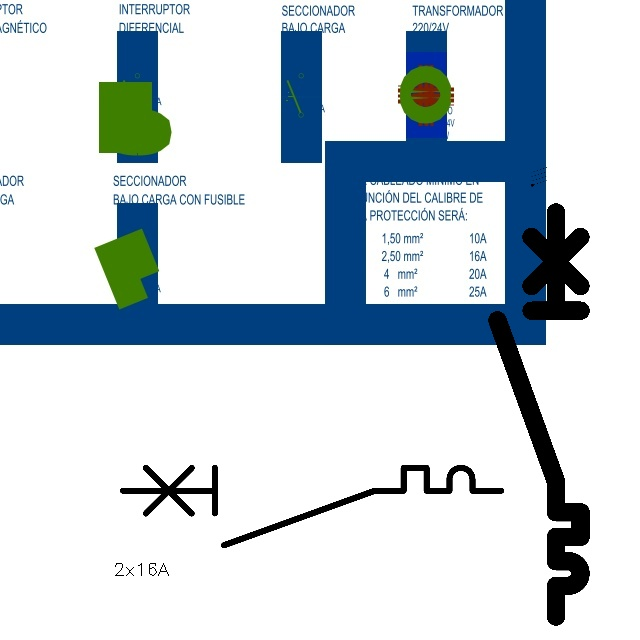interruptor_termomagnetico: (487, 202, 591, 627), (113, 458, 511, 555)
